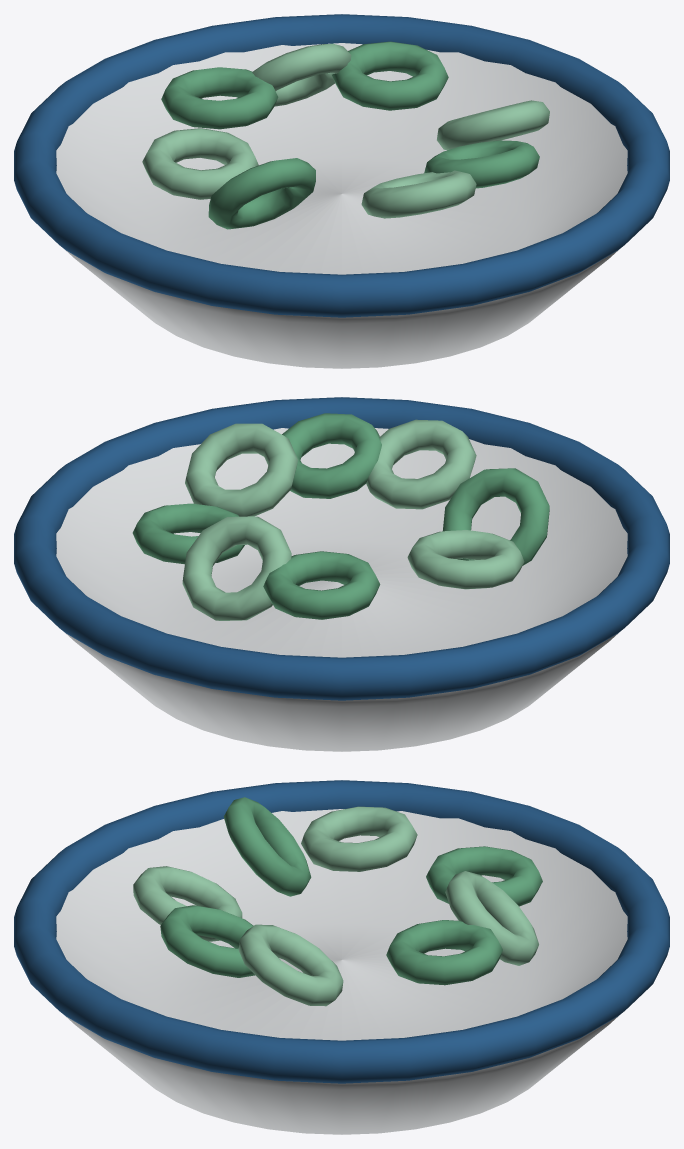
The model's file is wok_food_bowl_scallion.glb.
The picture shows the model from 3 angles, top to bottom: view 1: azimuth 30°, elevation 25°; view 2: azimuth 150°, elevation 25°; view 3: azimuth 270°, elevation 25°; orthographic projection.
Bounding box in the file's own units: 0.214 × 0.0655 × 0.2128.
